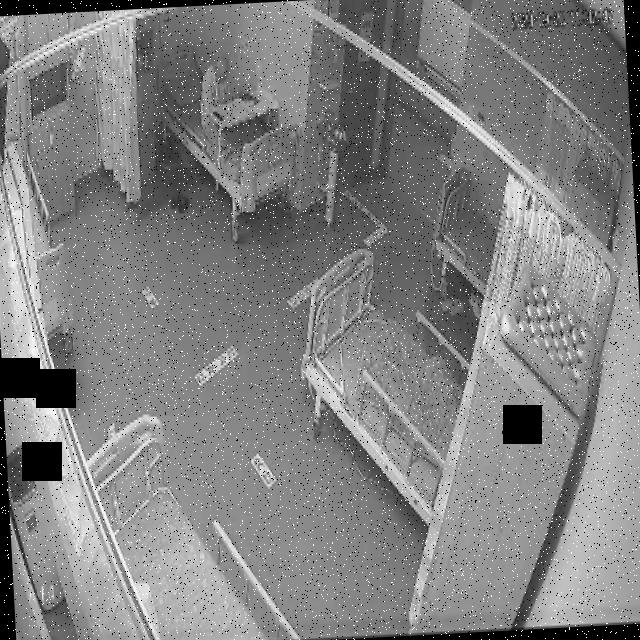bed: (83, 411, 300, 640), (298, 246, 469, 529), (150, 44, 304, 218), (430, 167, 500, 300)
patient: (197, 59, 240, 130)
sit: (197, 54, 236, 123)
